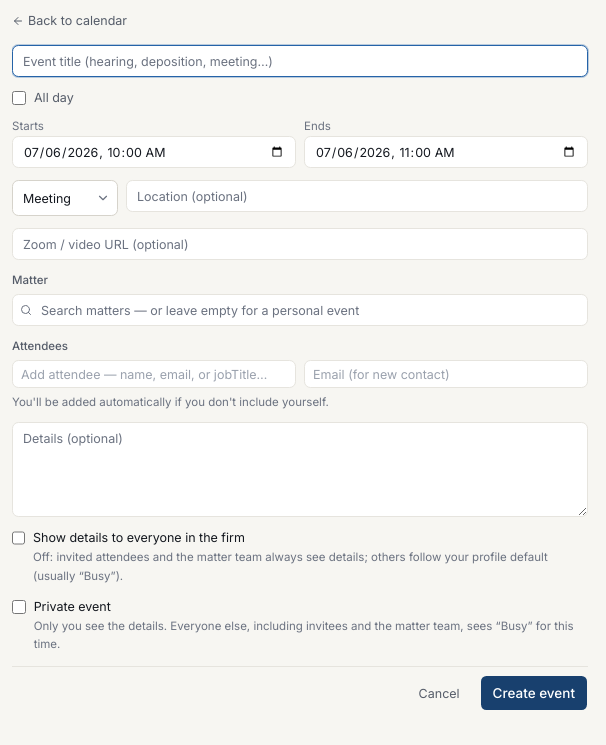
error handling › an unusable video link blocks the submit with a message
Type "Call" into the field with placeholder "Event title (hearing, deposition, meeting…)". click: (300, 61)
box: 12,45 -> 588,77
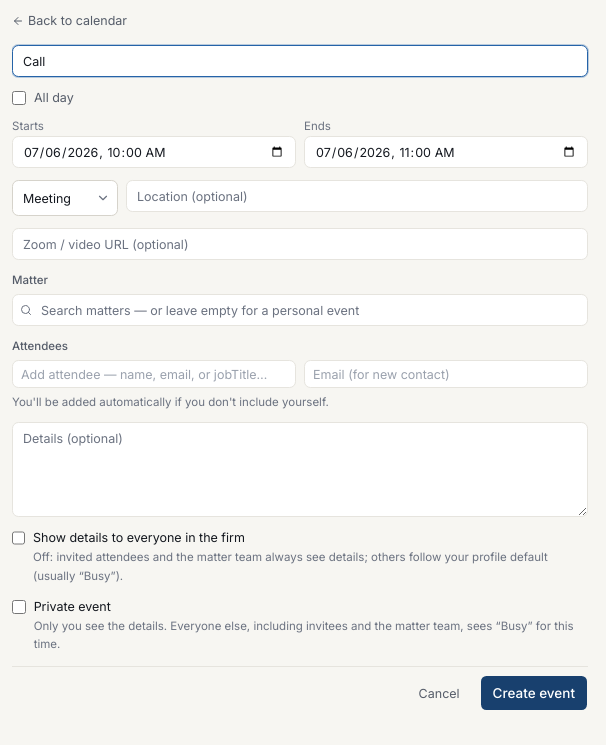
Type "javascript:alert(1)" into the field with placeholder "Zoom / video URL (optional)". click: (300, 244)
box: 12,228 -> 588,260
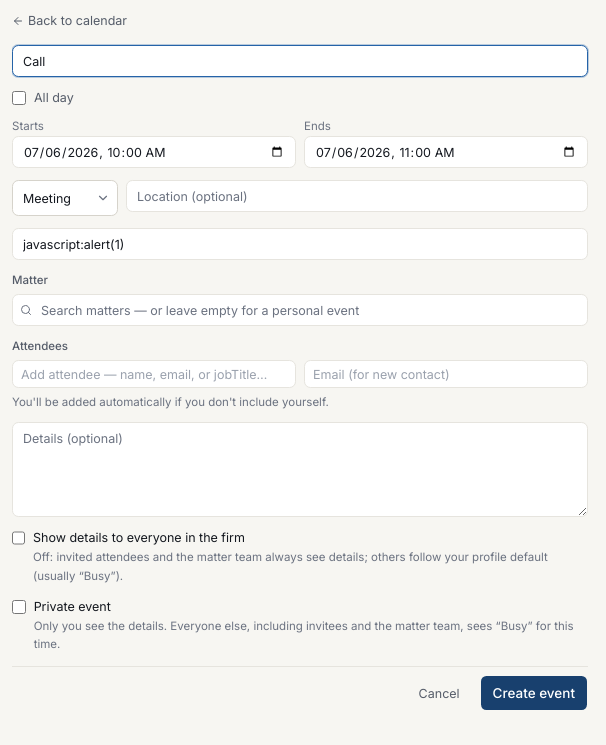
Submit the form named "create event"
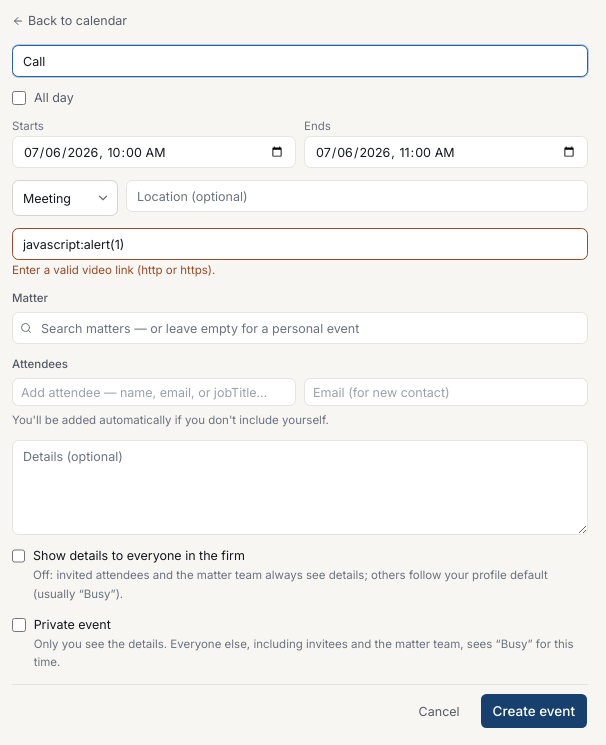
Now the text "Enter a valid video link (http or https)." is shown, box 12,263 -> 215,277
